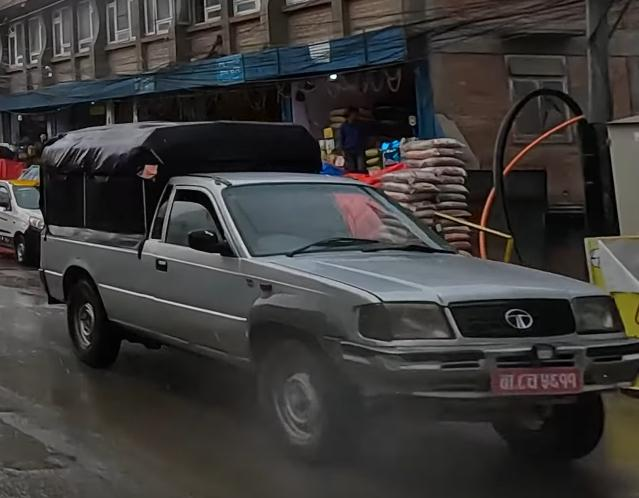taxi: (0, 160, 68, 279)
transport_vehicle: (29, 109, 639, 469)
